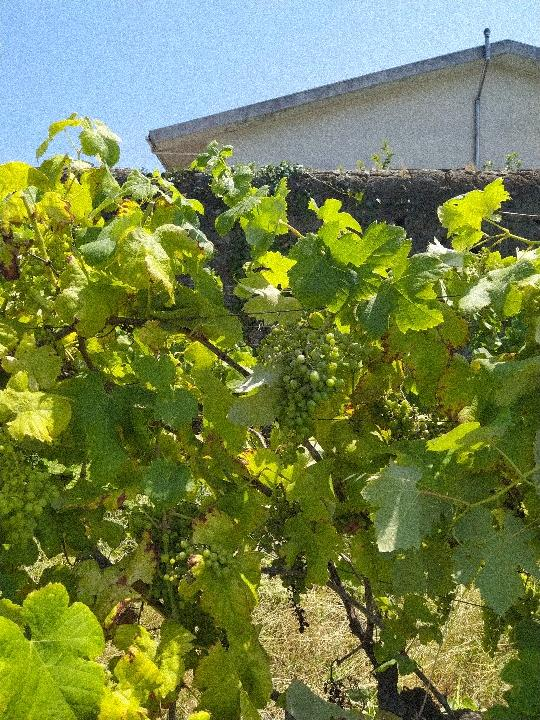grape: (271, 332, 345, 470), (0, 428, 61, 552)
